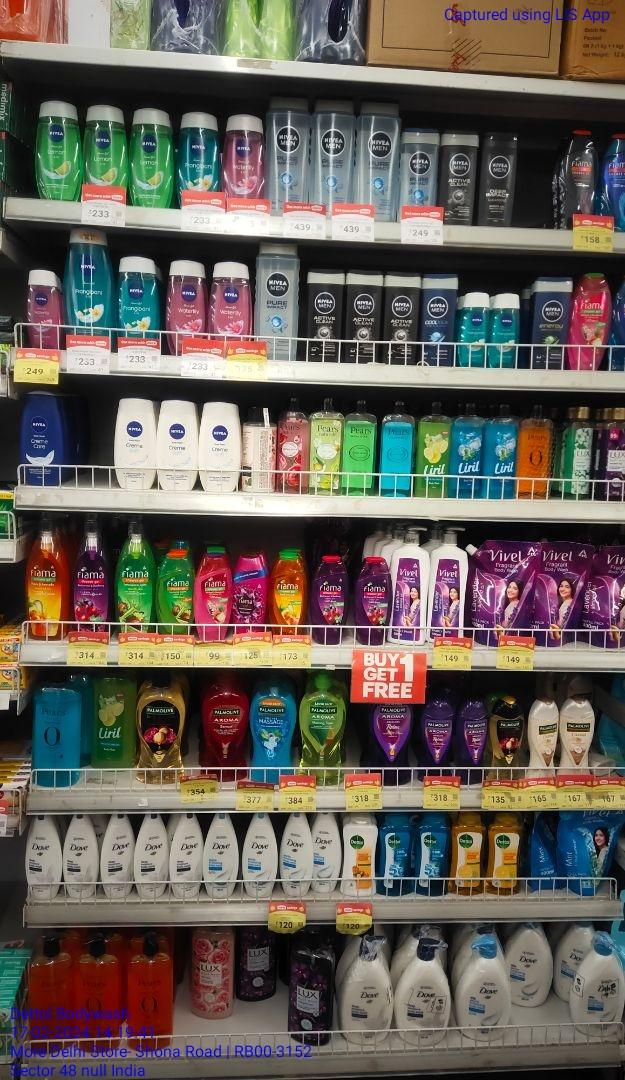Dettol_Bodywash_Cool: (415, 810, 447, 897), (378, 813, 411, 895)
Dettol_Bodywash_Refresh: (486, 813, 520, 898), (450, 813, 484, 895)
Dettol_Nourish_Body_Wash_250ML: (343, 814, 376, 894)
Dove_Deep_Moisture_Body_Wash_250ML: (25, 813, 62, 899), (63, 814, 98, 898), (101, 816, 133, 898), (136, 815, 168, 897), (172, 815, 202, 896)
Dove_Gentle_Exfoliating_Body_Wash_250ML: (205, 814, 239, 896), (279, 811, 312, 895), (244, 817, 274, 892), (314, 812, 338, 892)
Fiama_Shower_Gel_Lemongrass_and_Jojoba_250ML: (158, 551, 194, 631)
Fiama_Shower_Gel_Patchouli_and_Macadamia_250ML: (575, 270, 609, 374), (196, 553, 229, 640)
Fiama_Shower_Gel_Peach_and_Avocado_250ML: (270, 551, 308, 633)
Liril_Cooling_Mint_Body_Wash_250ML: (481, 406, 513, 497), (450, 402, 480, 496)
Liril_Lime_and_Tea_Tree_Oil_Body_Wash_250ML: (414, 402, 449, 498)
Lux_Black_Orchid_Scent_and_Juniper_Oil_Body_Wash_245ML: (602, 405, 625, 497)
Lux_Body_Wash_Skin_Detox_Freesia_Scent_and_Alove_Vera_245ML: (561, 407, 591, 497)
Nivea_Creme_Care_Body_Wash_250ML: (18, 387, 65, 484)
Nivea_Creme_Soft_Body_Wash_250ML: (114, 395, 155, 490), (157, 397, 196, 491), (200, 401, 238, 492)
Nivea_Shower_Gel_Frangipani_and_Oil_250ML: (68, 227, 110, 334), (117, 254, 160, 336), (179, 113, 221, 192)
Nivea_Shower_Gel_Lemon_and_Oil_250ML: (35, 101, 84, 200), (133, 106, 170, 206), (89, 107, 126, 186)
Nivea_Shower_Gel_Waterlily_and_Oil_250ML: (222, 113, 265, 198), (167, 257, 203, 352), (213, 263, 251, 339)
Palmolive_Aroma_Relax_250ML: (456, 700, 484, 784), (420, 698, 450, 775)
Palmolive_Coconut_Joy_Exfoliating_Body_Wash_250ML: (527, 694, 559, 778), (562, 694, 593, 772)
Palmolive_Luminous_Oils_Invigorating_Macadamia_Oil_With_Peony_250ML: (491, 697, 523, 780)
Pears_Naturale_Aloe_Vera_Body_Wash_250ML: (309, 395, 339, 493)
Pears_Pure_Glycerin_and_Lemon_Flower_Extracts_Body_Wash_250ML: (344, 401, 376, 493)
Pears_Pure_Glycerin_and_Mint_Extracts_Body_Wash_250ML: (379, 399, 413, 498)
